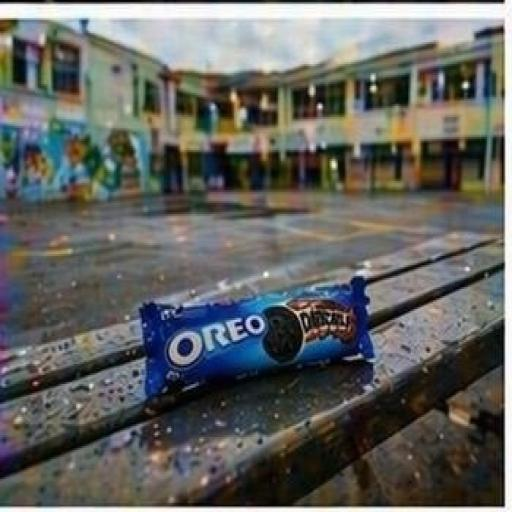oreo: (91, 228, 421, 434)
